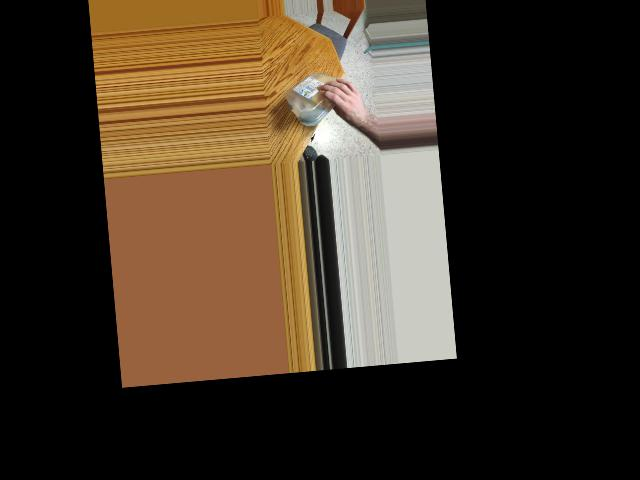cheese: (282, 68, 353, 125)
